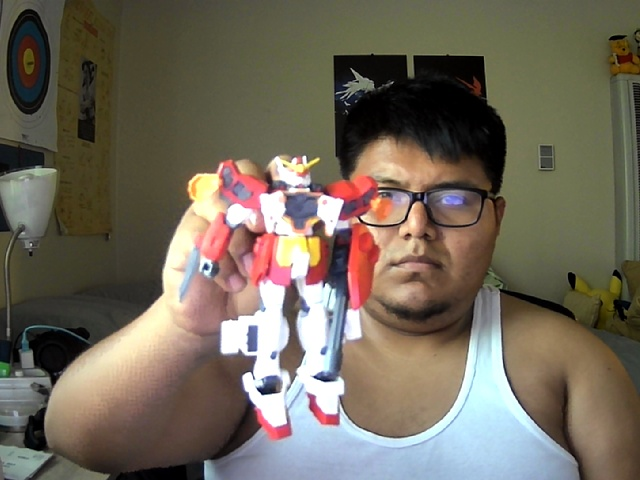Deatharms: (177, 156, 394, 440)
